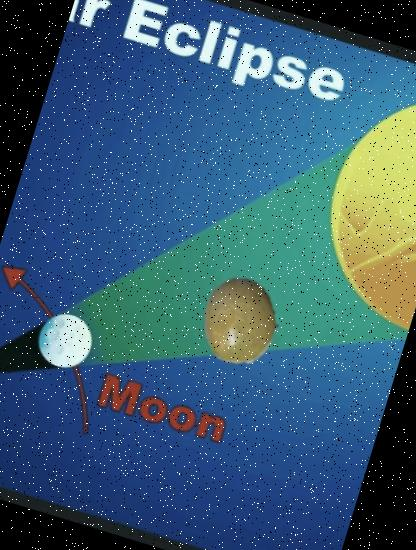Maracuja: (186, 266, 295, 376)
